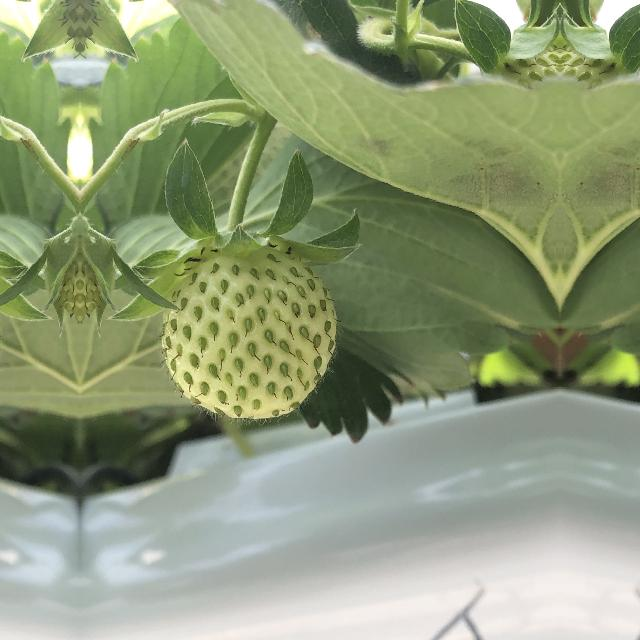Health_25: (160, 243, 342, 427)
